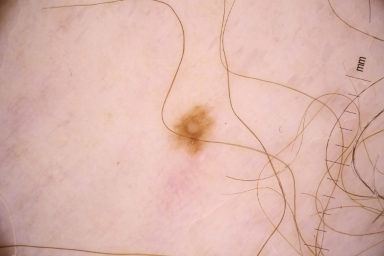nevus: (166, 104, 219, 159)
